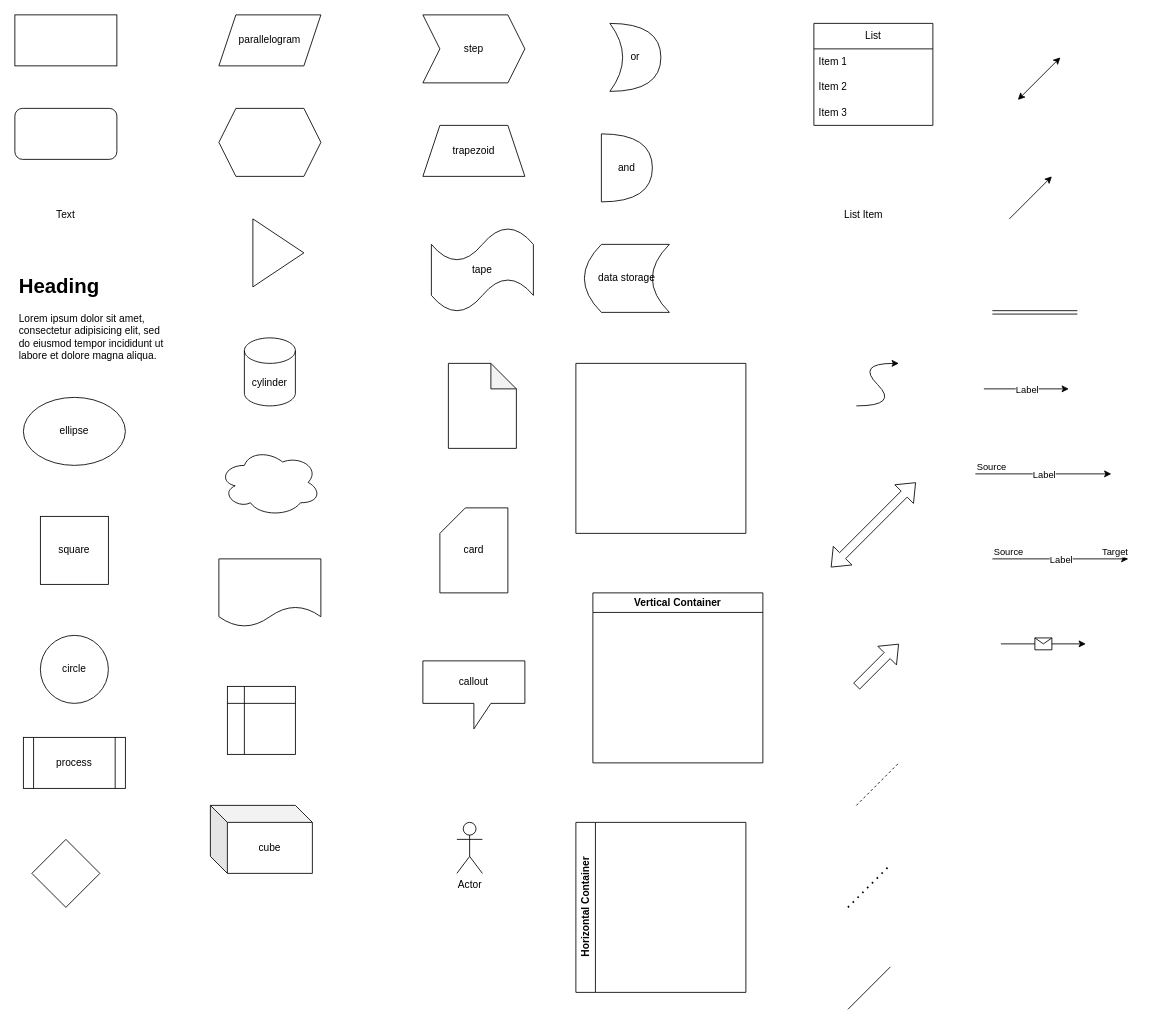
Some shapes in this 1150 by 1025 pixel diagram are drawn without their labels. The centre of each missing label's shape, as x and y in pixels:
"cloud" belongs at point 269,482.
"diamond" belongs at point 65,873.
"document" belongs at point 269,592.
"hexagon" belongs at point 269,142.
"internal storage" belongs at point 261,720.
"note" belongs at point 482,405.
"rectanle" belongs at point 65,40.
"rounded rectangle" belongs at point 65,133.
"triangle" belongs at point 278,252.
